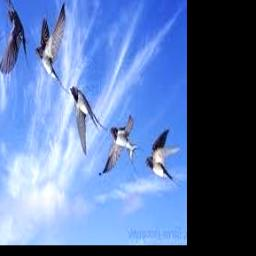Swallow: (35, 2, 71, 96), (99, 114, 142, 179), (70, 87, 107, 152), (0, 0, 29, 75), (146, 130, 180, 187)
